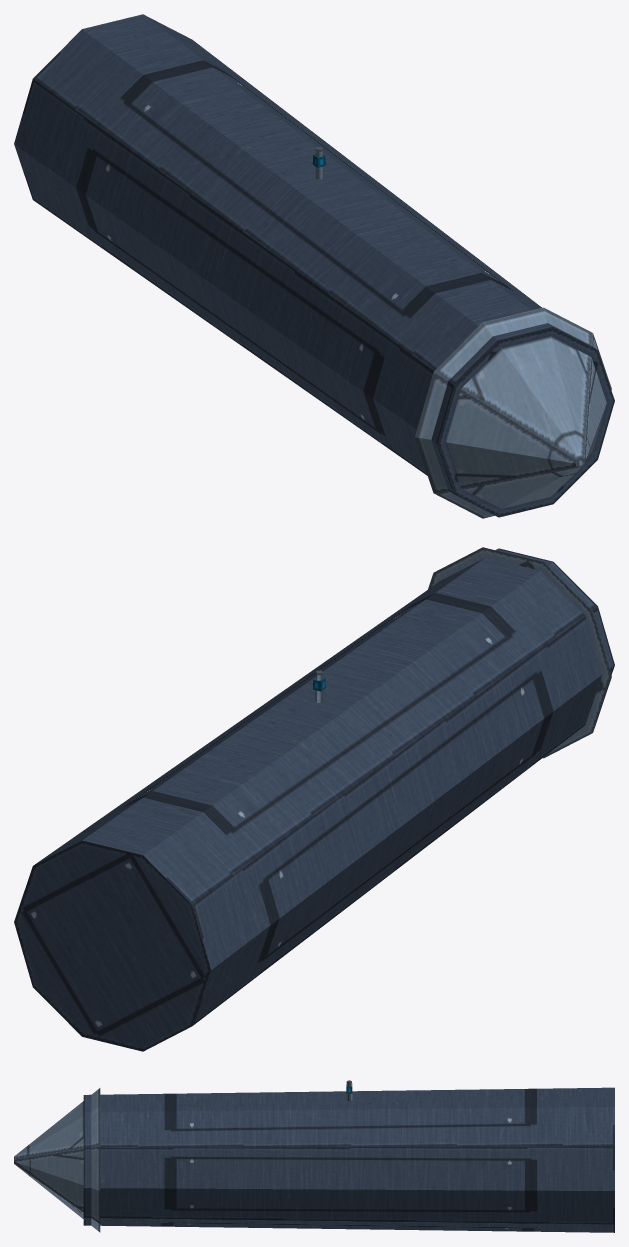
Rendered from unit-submarine.fbx.
The picture shows the model from 3 angles, top to bottom: view 1: azimuth 30°, elevation 25°; view 2: azimuth 150°, elevation 25°; view 3: azimuth 270°, elevation 25°; orthographic projection. The views are drawn at different scales.
Visible parts, largest first — view 1: unit-submarine; view 2: unit-submarine; view 3: unit-submarine.
Part boxes in pixels (bbox=[...]): unit-submarine: bbox=[14, 14, 614, 518]; unit-submarine: bbox=[14, 547, 614, 1051]; unit-submarine: bbox=[14, 1080, 614, 1232].
Bounding box in the file's own units: 378 × 405 × 1553.
1 material, 1 textured.
